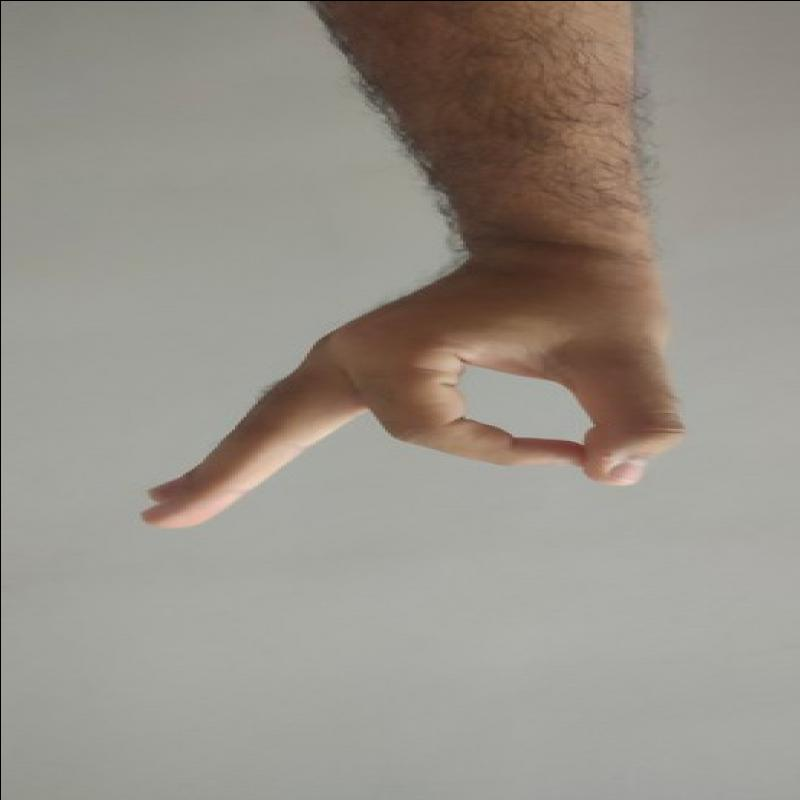Mudraakhyam: (107, 240, 707, 548)
